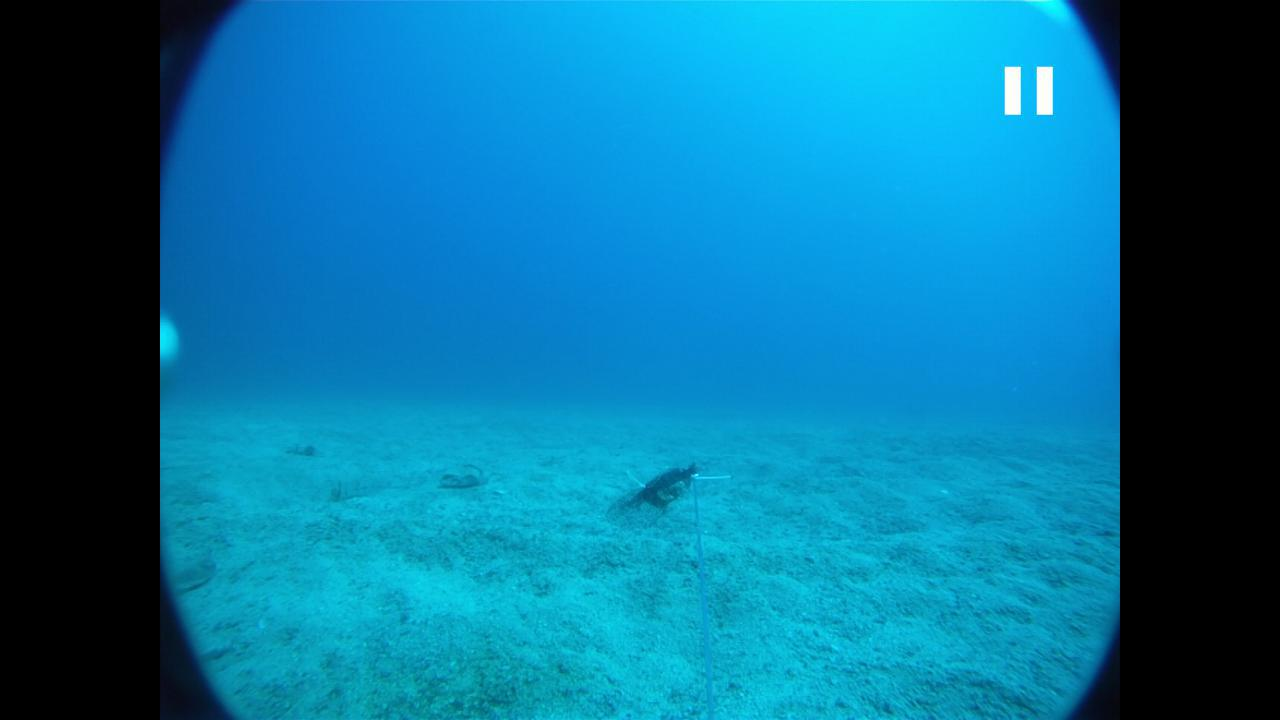bothus: (432, 460, 489, 494)
